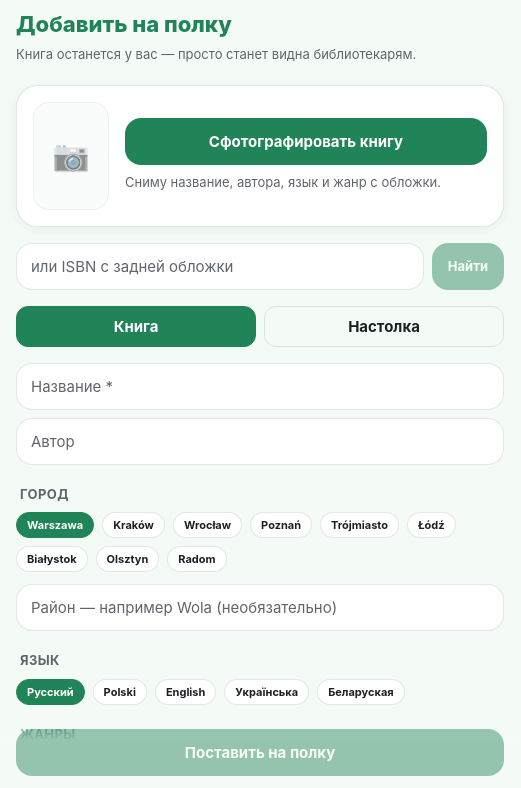
Test: исход модерации после сохранения › обычному участнику показываем текст сервера, а не свою копию
In the field with placeholder "Название *": (260, 386) [16,362,504,410], type "Дюна"
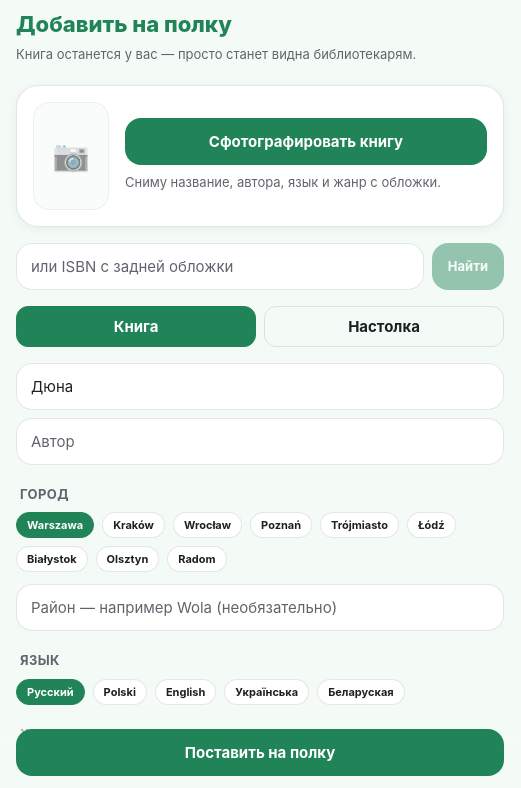
Click the button "Поставить на полку": (260, 752) [16,729,504,776]
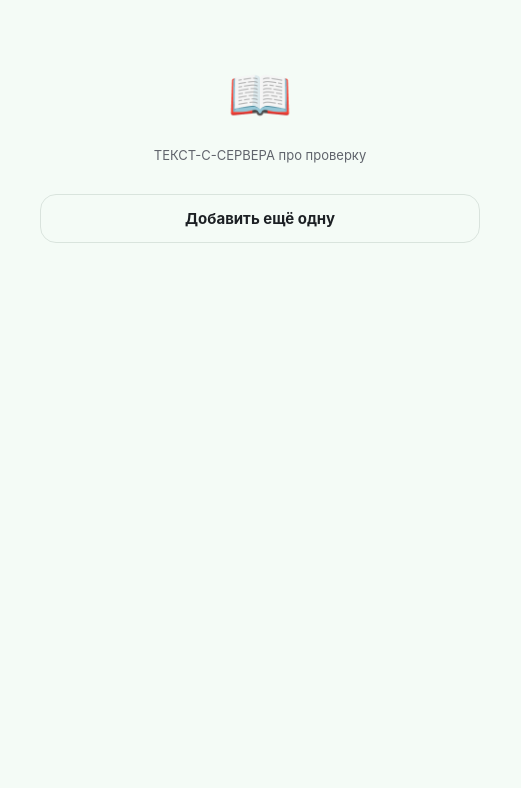
Expected: the text "ТЕКСТ-С-СЕРВЕРА про проверку" is shown, [154,147,366,163]
